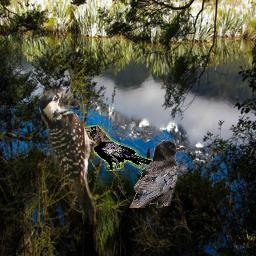Crow: (129, 140, 188, 208), (81, 125, 156, 171)
Woodpecker: (39, 88, 109, 225)
